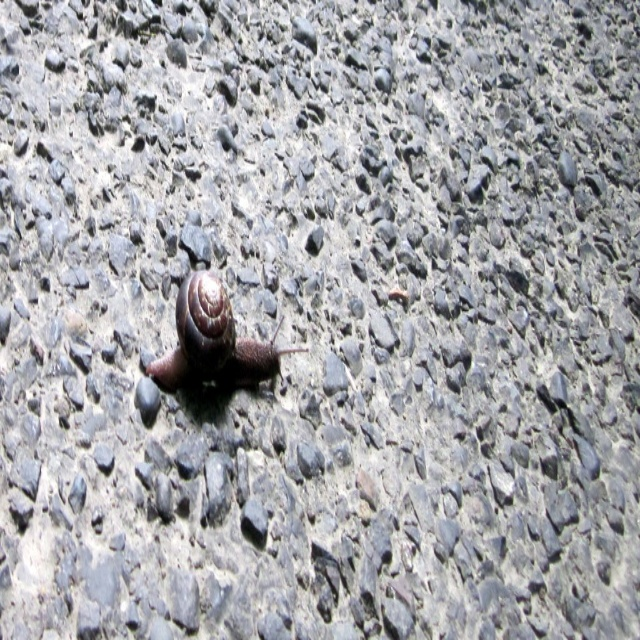Snail: (143, 262, 313, 394)
